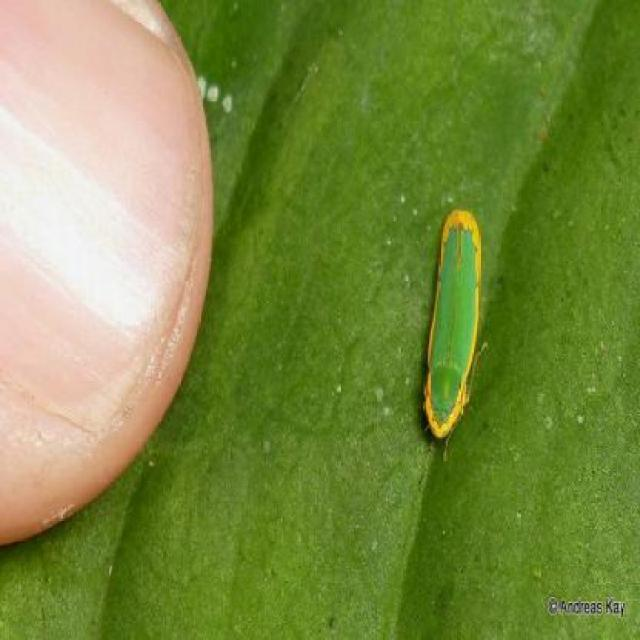green-leafhopper: (414, 204, 500, 442)
